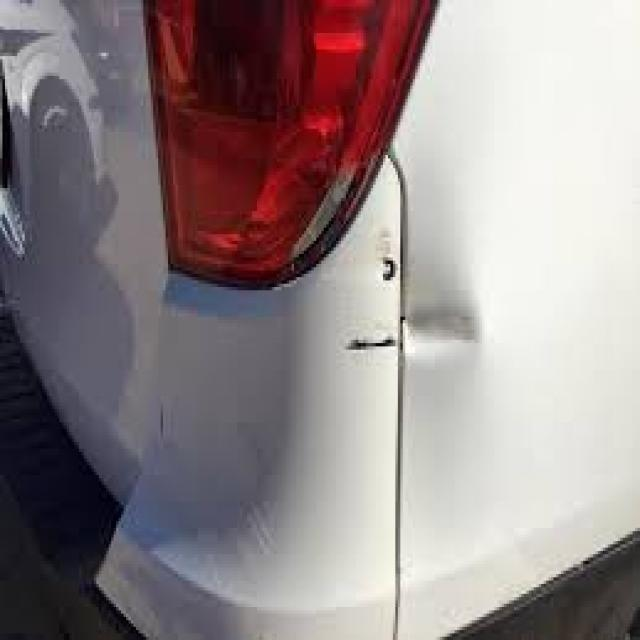dent-or-scratch: (348, 230, 496, 400)
